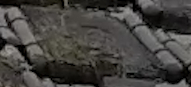bag: (5, 7, 182, 80)
